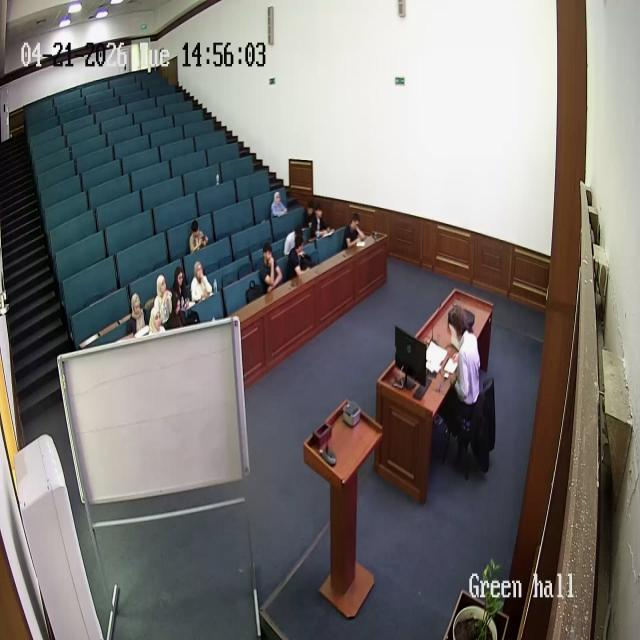person: (442, 303, 482, 458), (171, 267, 195, 325), (258, 241, 284, 293), (286, 233, 310, 280), (153, 273, 174, 326), (190, 259, 214, 305), (343, 212, 368, 250), (130, 293, 150, 337), (310, 202, 332, 238), (284, 223, 306, 257), (189, 219, 209, 253), (300, 199, 318, 236), (146, 304, 166, 337), (270, 190, 288, 219)
